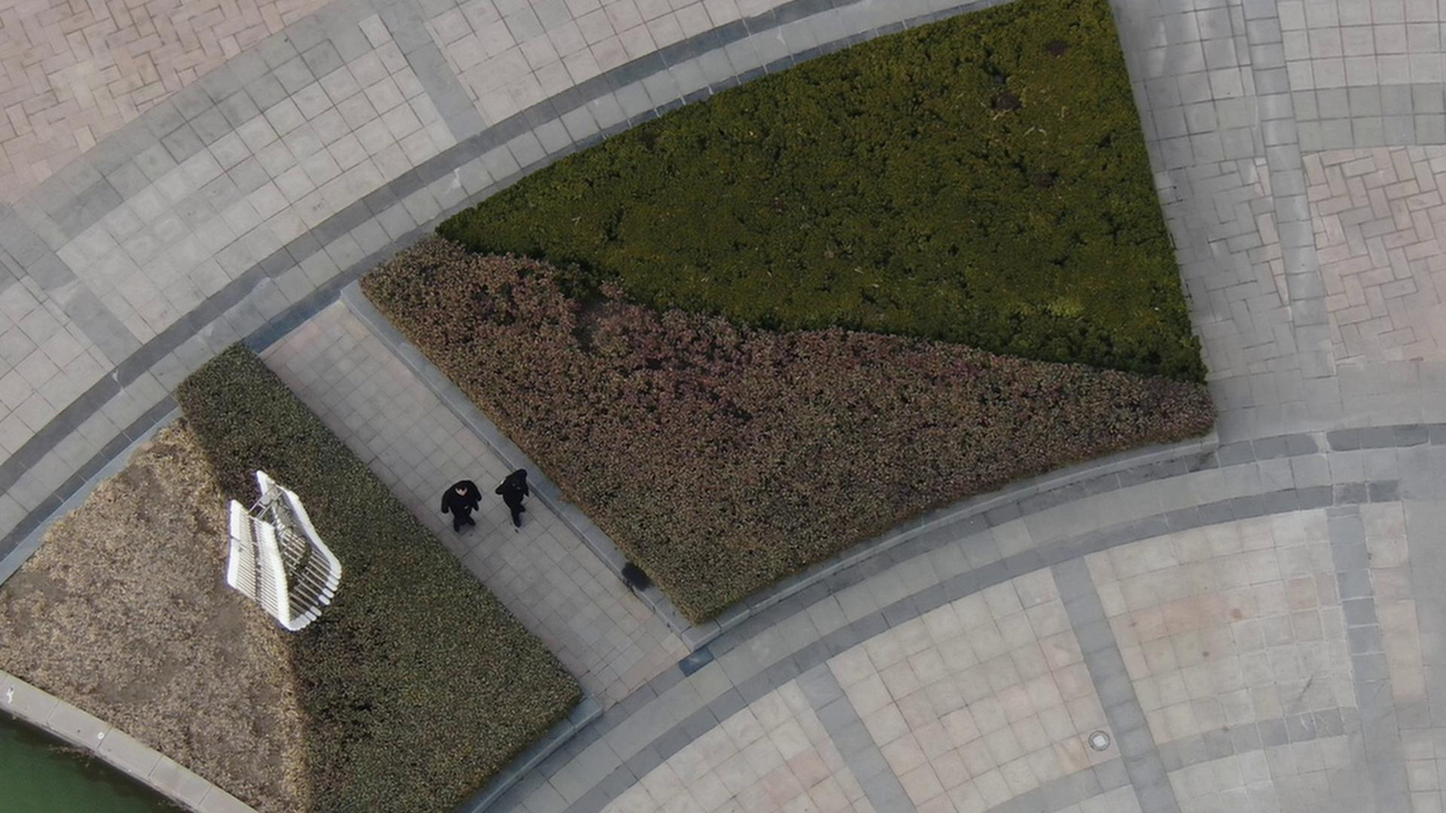human: (432, 479, 478, 538), (492, 479, 529, 522)
